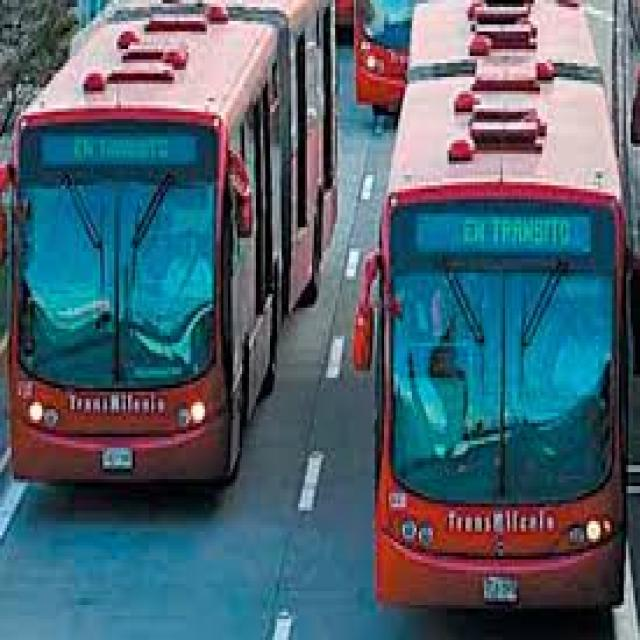AB: (351, 4, 633, 605), (7, 4, 340, 493)
